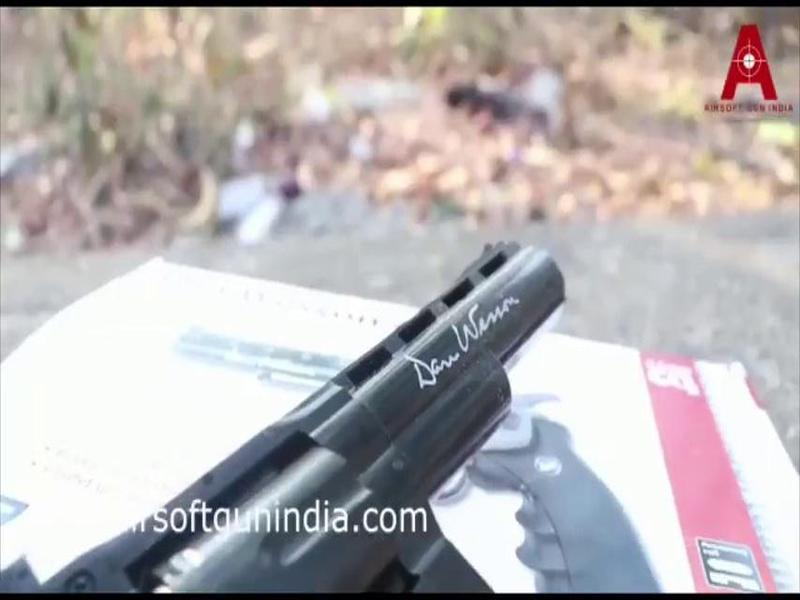Revolver: (47, 230, 628, 600)
